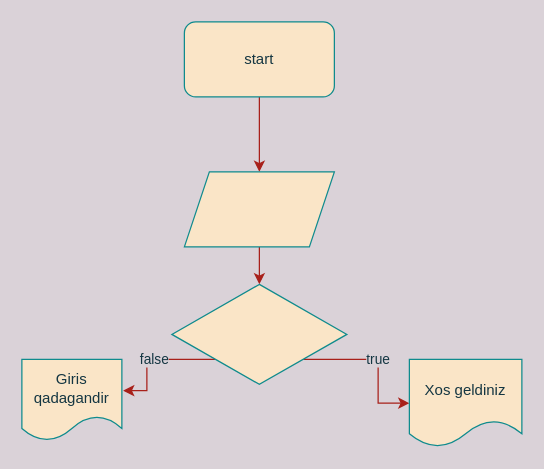
This 544x469 diagram has some shape labels left out. The centre of each missing label's shape, as x and y in pixels:
"age" belongs at (258,209).
"age>18&&age>0" belongs at (259,333).
